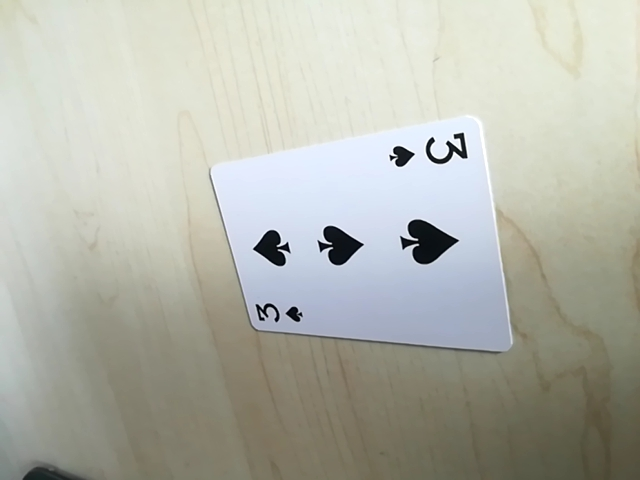ht 3: (387, 127, 473, 171), (248, 299, 309, 331)
